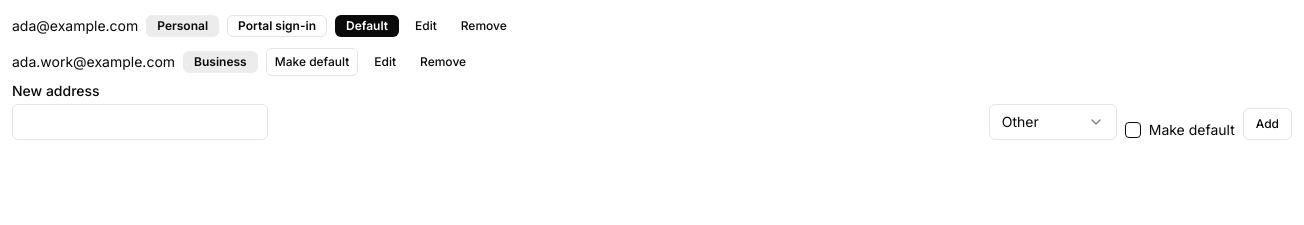
Scenario: ContactEmailsManager and the portal sign-in › a refused change says why and leaves the row as it was
The image size is (1304, 225).
Check: the text "Portal sign-in" is shown, box top-left (227, 15), bottom-right (327, 37)
Click the button "Edit" in the row of "ada@example.com" at (426, 26), box top-left (407, 12), bottom-right (445, 40)
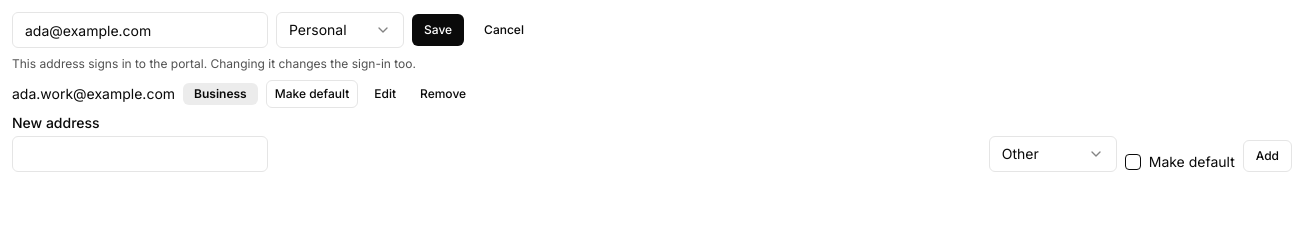
Replace the text in the field named "Edit ada@example.com" with "taken@example.com" at (140, 30), box top-left (12, 12), bottom-right (268, 48)
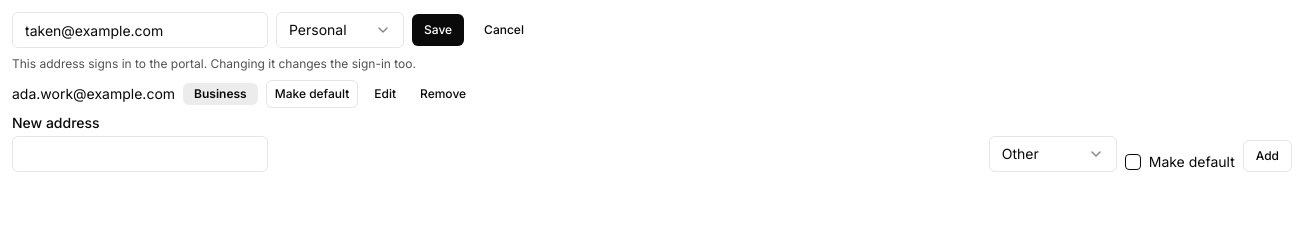
Click the button "Save" at (438, 30), box top-left (412, 14), bottom-right (464, 46)
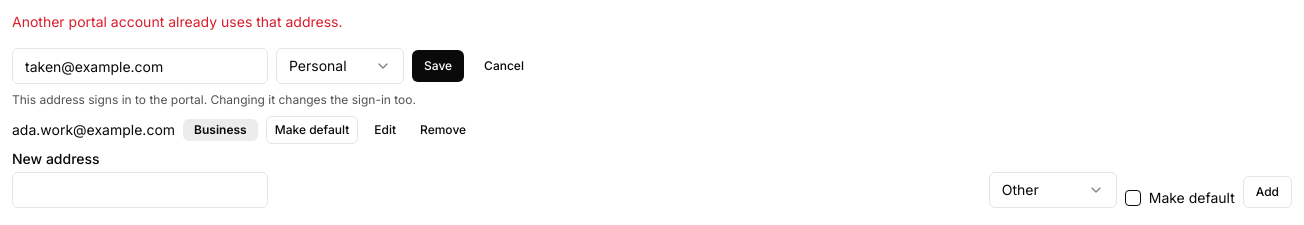
Check: the message reads "Another portal account already uses that address.", box top-left (12, 13), bottom-right (342, 30)
